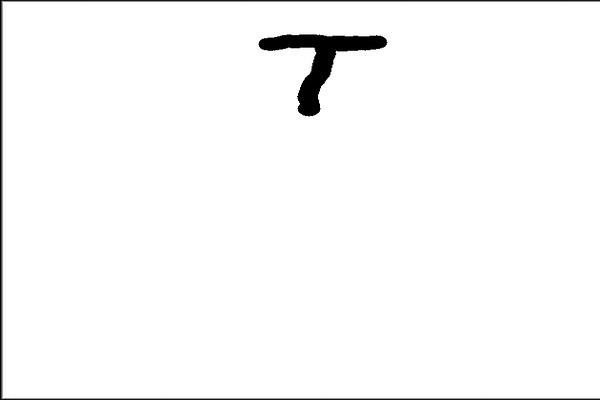T: (255, 18, 393, 129)
